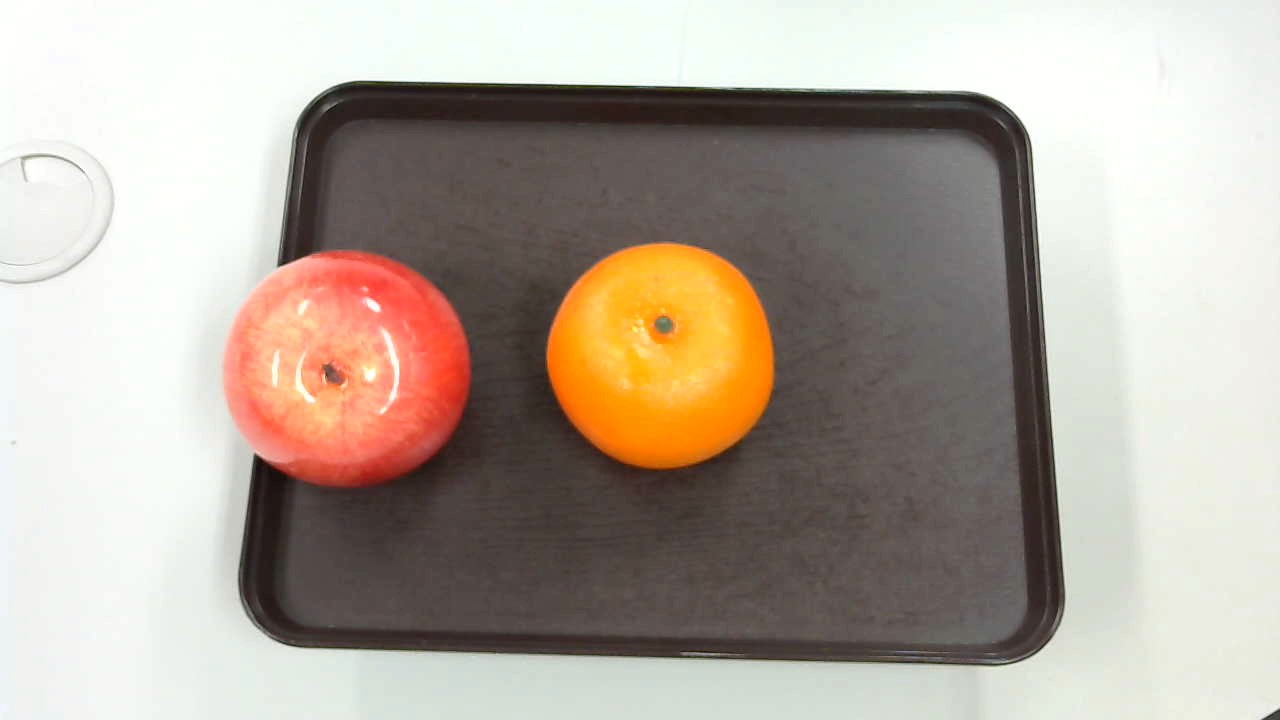orange: (547, 244, 775, 467)
red apple: (224, 246, 471, 490)
